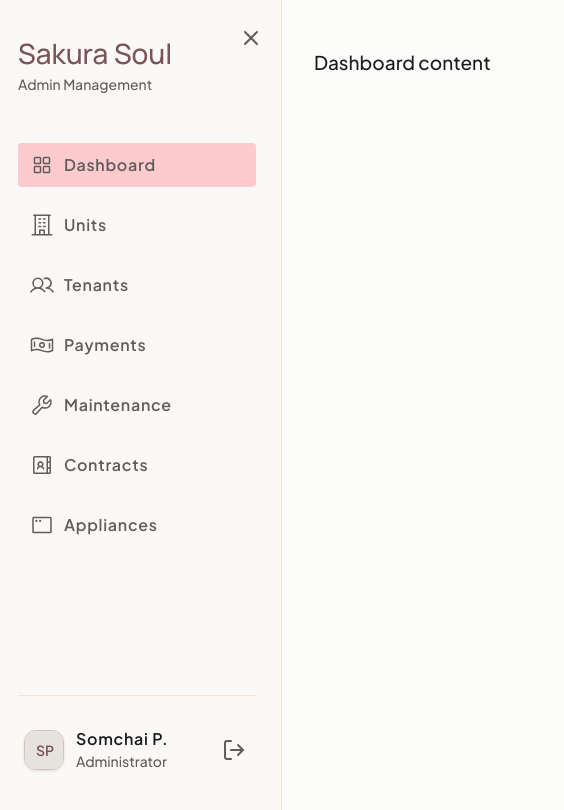
Test: AppLayout › navigates to account settings from the signed-in profile
This screenshot has width=564, height=810.
Expected: the text "Somchai P." is shown, x1=76 y1=728 x2=168 y2=749
Step 1. Click the link with aria-label "Account Settings" → (96, 749), box x1=24 y1=728 x2=168 y2=770
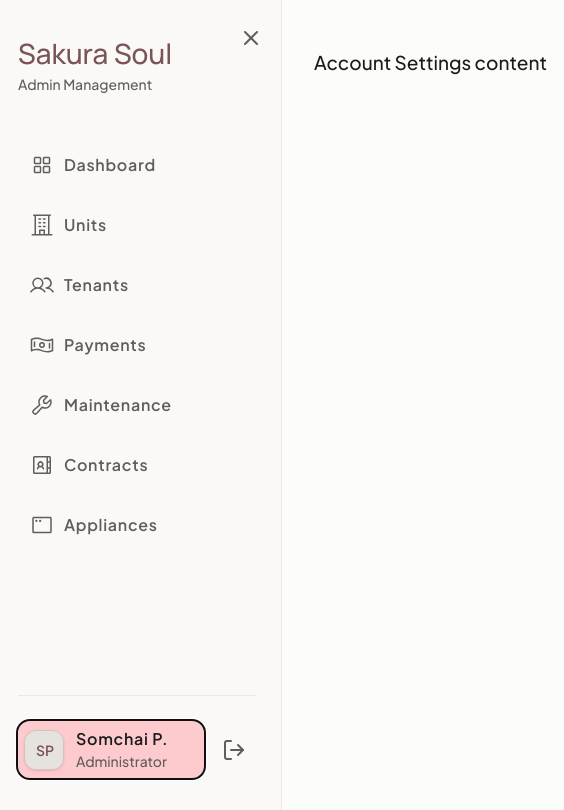
Result: the heading "Account Settings content" is shown at x1=314 y1=50 x2=547 y2=74
